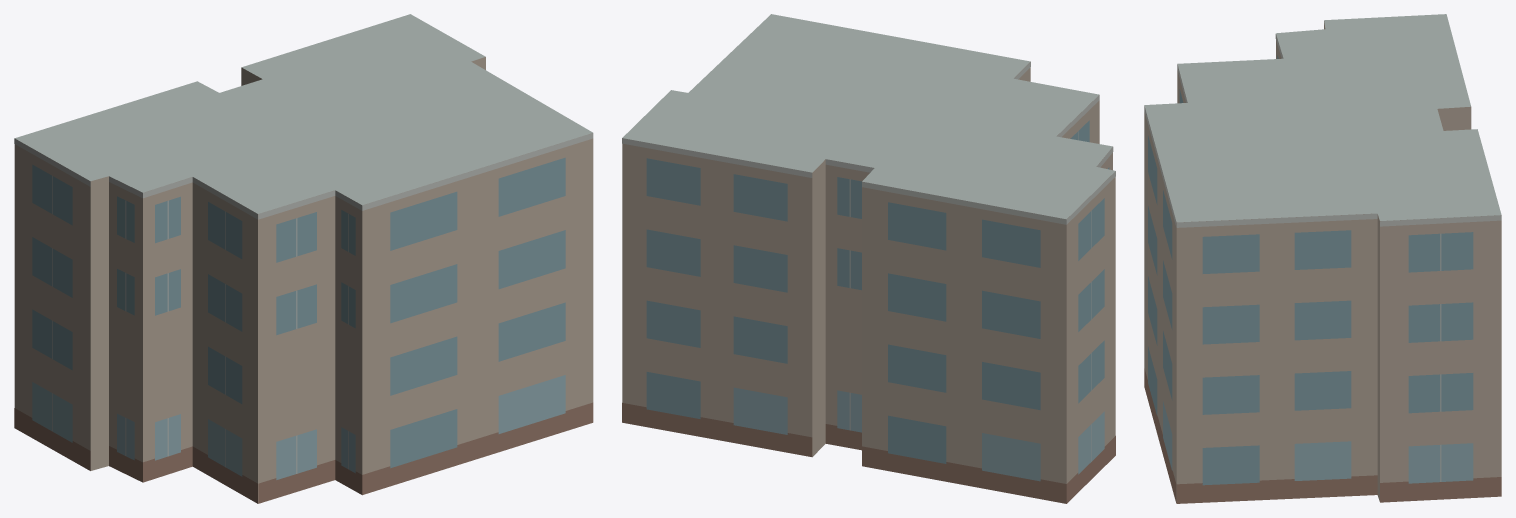
File: survey-upis-32495612.glb
The picture shows the model from 3 angles, left to right: view 1: azimuth 30°, elevation 25°; view 2: azimuth 150°, elevation 25°; view 3: azimuth 270°, elevation 25°; orthographic projection. The views are drawn at different scales.
Parts seen in each view (by area): view 1: survey-upis-32495612.tmp; view 2: survey-upis-32495612.tmp; view 3: survey-upis-32495612.tmp.
Boxes of the visible parts, bbox=[...] form: survey-upis-32495612.tmp: bbox=[14, 14, 593, 503]; survey-upis-32495612.tmp: bbox=[622, 14, 1115, 503]; survey-upis-32495612.tmp: bbox=[1144, 14, 1501, 503].
Bounding box in the file's own units: 19.86 × 12.5 × 14.39.
